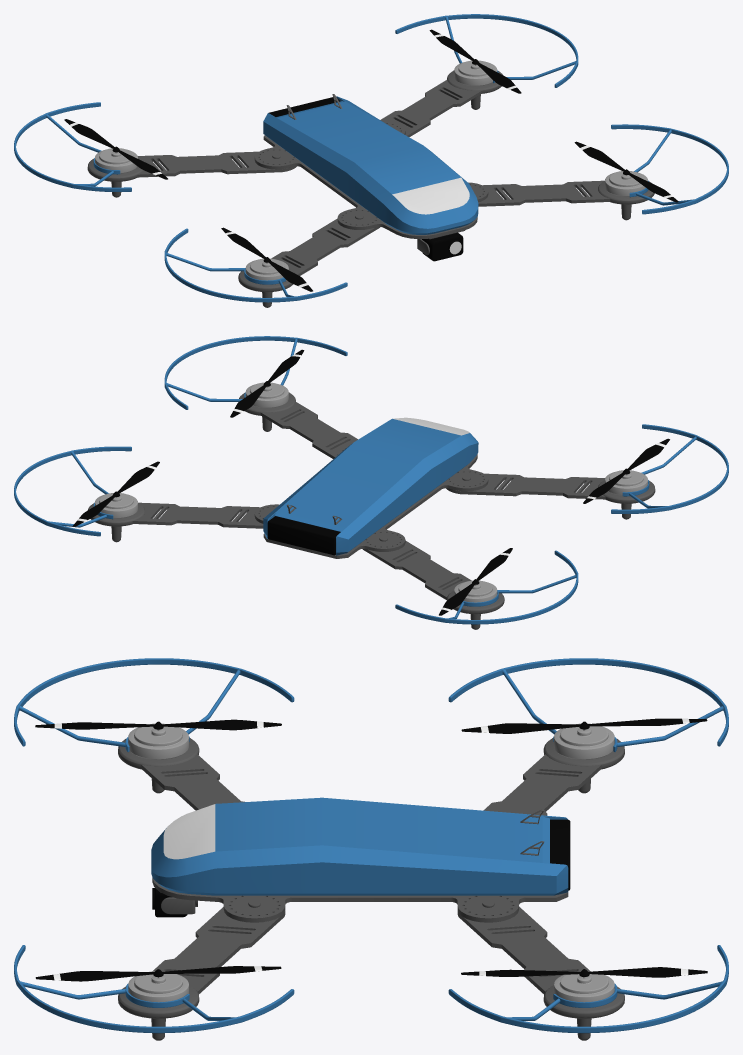
Rendered from drone_blue.glb.
3 views of the same model, one above another, from view 1: azimuth 30°, elevation 25°; view 2: azimuth 150°, elevation 25°; view 3: azimuth 270°, elevation 25° (orthographic). The views are drawn at different scales.
Visible parts, largest first — view 1: Cube.011, Cylinder.001, Cylinder.010, Cylinder.004, Cube.001, Cylinder.009, Cylinder.006, Cylinder.002, Cylinder.005, Cube.023, Cylinder.008; view 2: Cube.011, Cylinder.001, Cylinder.010, Cylinder.004, Cube.001, Cube.025, Cylinder.005, Cylinder.002, Cylinder.009, Cylinder.006, Cylinder.008; view 3: Cube.011, Cylinder.001, Cylinder.010, Cylinder.004, Cube.001, Cylinder.002, Cylinder.006, Cylinder.005, Cylinder.009, Cube.025, Cylinder.008.
Boxes of the visible parts, x1,y1,x2,y2 form: Cube.011: [263, 96, 478, 234]; Cylinder.001: [87, 70, 654, 292]; Cylinder.010: [14, 14, 728, 302]; Cylinder.004: [95, 60, 647, 280]; Cube.001: [254, 121, 488, 239]; Cylinder.009: [574, 141, 678, 202]; Cylinder.006: [64, 119, 167, 179]; Cylinder.002: [221, 227, 312, 291]; Cylinder.005: [429, 29, 521, 93]; Cube.023: [422, 232, 463, 261]; Cylinder.008: [111, 94, 631, 307]; Cube.011: [263, 417, 478, 555]; Cylinder.001: [87, 392, 655, 614]; Cylinder.010: [14, 336, 728, 624]; Cylinder.004: [95, 382, 647, 602]; Cube.001: [254, 444, 488, 558]; Cube.025: [267, 516, 340, 555]; Cylinder.005: [73, 461, 159, 526]; Cylinder.002: [583, 438, 669, 503]; Cylinder.009: [230, 349, 304, 417]; Cylinder.006: [439, 548, 512, 615]; Cylinder.008: [111, 416, 631, 629]; Cube.011: [151, 797, 568, 895]; Cylinder.001: [118, 738, 624, 1018]; Cylinder.010: [14, 658, 728, 1033]; Cylinder.004: [128, 723, 614, 1002]; Cube.001: [152, 877, 568, 922]; Cylinder.002: [35, 719, 281, 730]; Cylinder.006: [461, 718, 707, 733]; Cylinder.005: [461, 967, 707, 977]; Cylinder.009: [35, 966, 281, 981]; Cube.025: [550, 819, 570, 890]; Cylinder.008: [151, 778, 591, 1040].
Bounding box in the file's own units: 0.2222 × 0.0264 × 0.1816.
